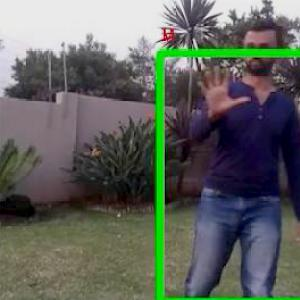follow_hand: (194, 59, 250, 117)
